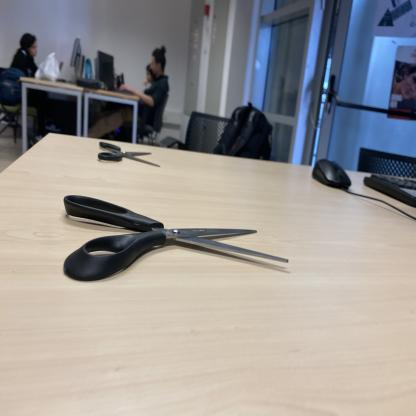scissors: (60, 194, 289, 285), (95, 140, 161, 174)
